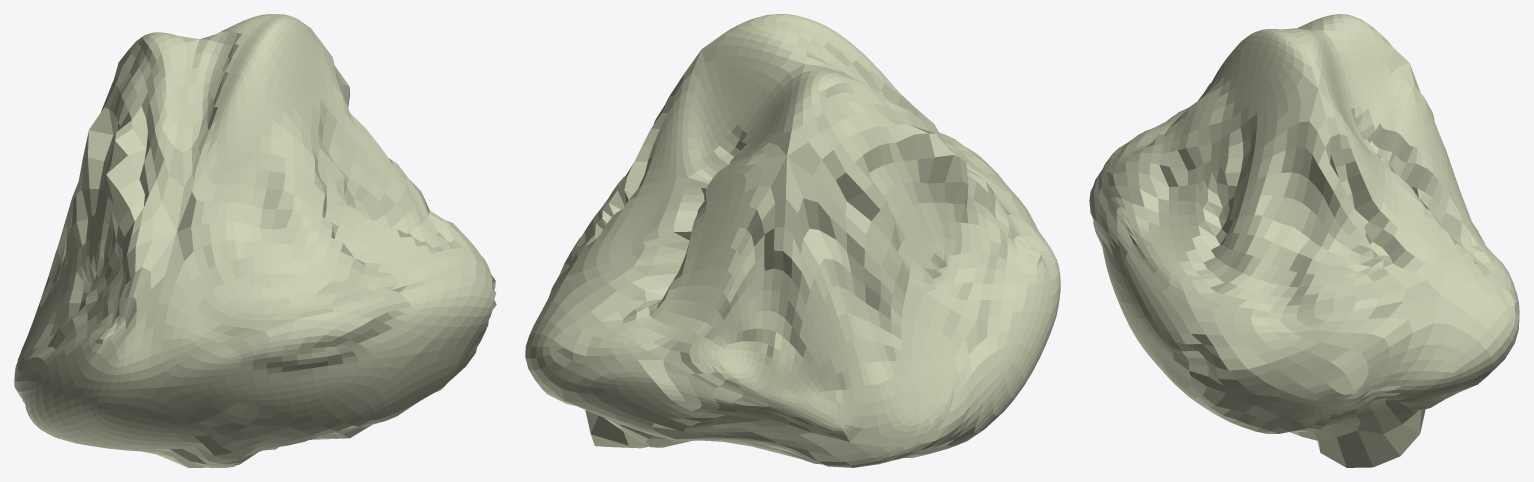
Rendered from detailedVolcano.obj.
The picture shows the model from 3 angles, left to right: view 1: azimuth 30°, elevation 25°; view 2: azimuth 150°, elevation 25°; view 3: azimuth 270°, elevation 25°; orthographic projection. The views are drawn at different scales.
Visible parts, largest first — view 1: mesh_0; view 2: mesh_0; view 3: mesh_0.
Boxes of the visible parts, box(x1,y1,x2,y2) form: mesh_0: box(14, 14, 496, 467); mesh_0: box(525, 14, 1060, 467); mesh_0: box(1089, 14, 1519, 467).
Bounding box in the file's own units: 3.3 × 3.18 × 3.22.
